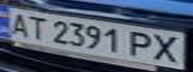1: (103, 25, 127, 54)
2: (48, 18, 72, 46)
3: (66, 20, 87, 48)
9: (81, 22, 106, 52)
A: (3, 10, 33, 38)
P: (124, 28, 157, 58)
T: (24, 14, 51, 40)
X: (148, 32, 187, 65)
